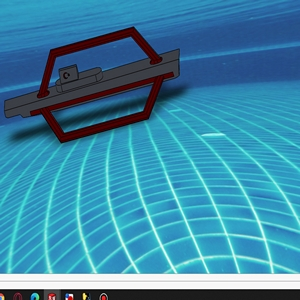submarine: (11, 30, 184, 149)
